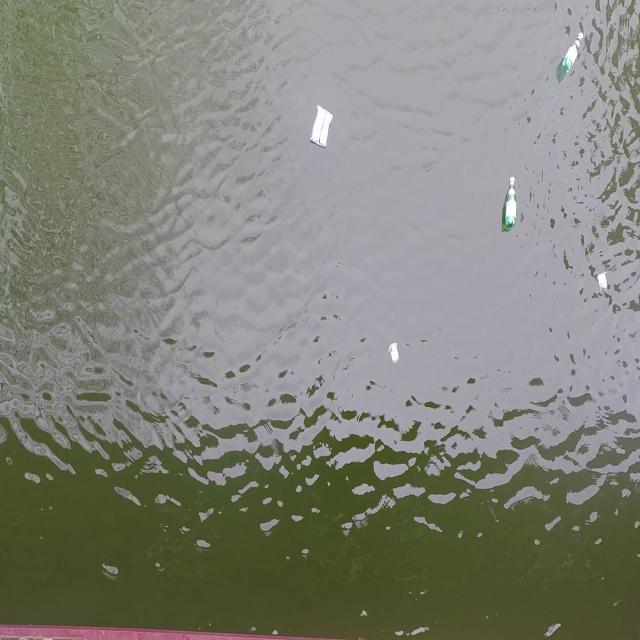Autre plastique: (304, 99, 338, 153)
Bouteille plastique: (557, 30, 587, 78), (500, 173, 521, 234)
Non plastique: (593, 267, 613, 299), (387, 339, 402, 367)
